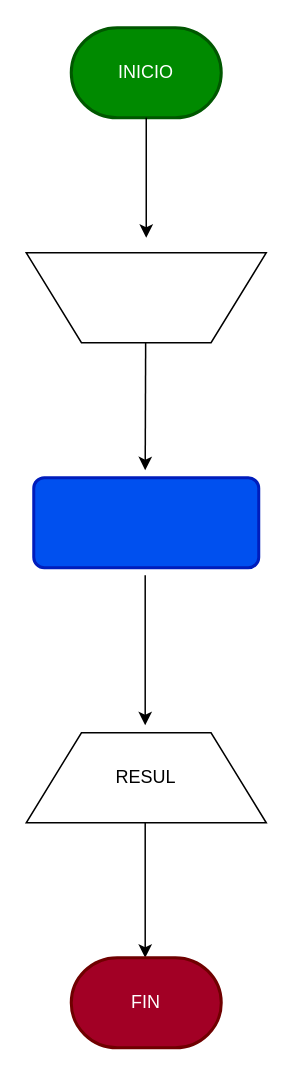
Some shapes in this 293 by 1074 pixel diagram are drawn without their labels. Here are the shapes that lost their labels. From the top down, the box of each, then its label:
(25, 251, 266, 343): N1,N2
(32, 476, 260, 568): RESUL = N1 + N2
